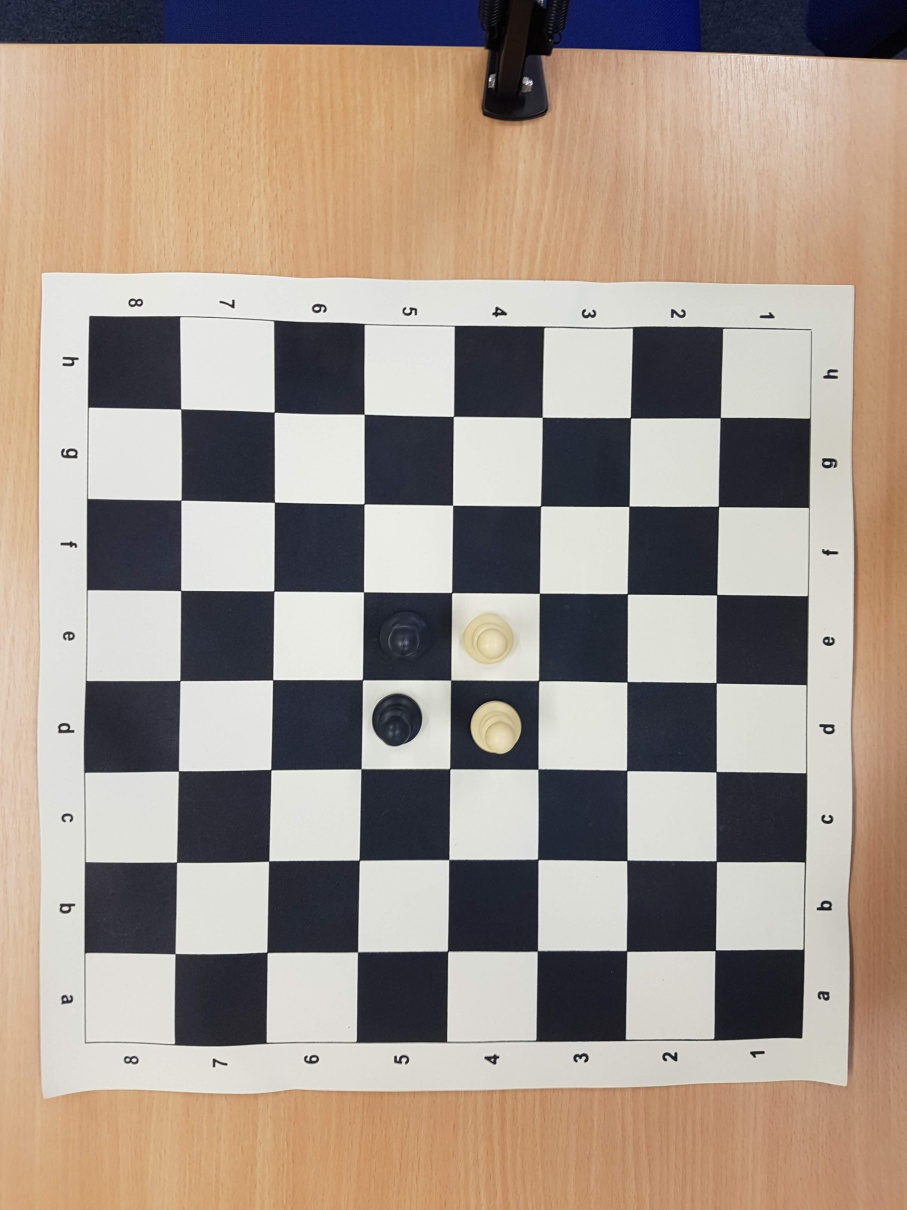chess_pawn: (378, 610, 432, 666), (469, 701, 523, 755), (462, 614, 515, 666), (371, 694, 423, 746)
